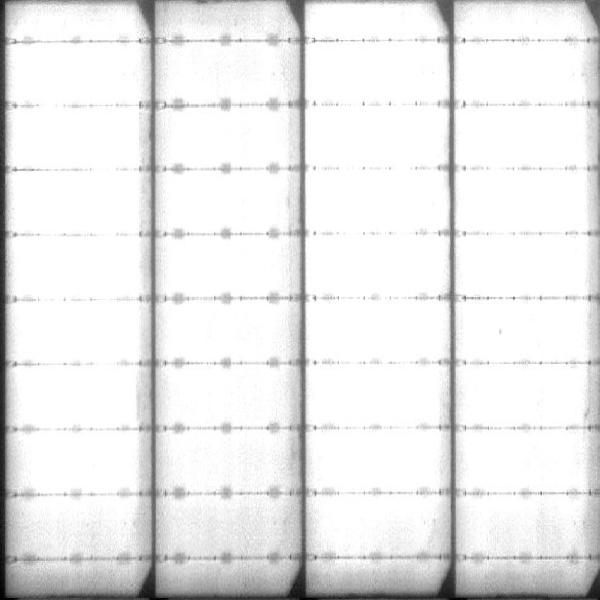hot_spot: (314, 303, 444, 358), (309, 45, 439, 98), (313, 239, 444, 291), (461, 174, 580, 231), (14, 240, 136, 295), (464, 434, 583, 489), (315, 436, 443, 487), (312, 177, 441, 227), (19, 435, 138, 489), (11, 178, 139, 228), (315, 368, 448, 416), (18, 306, 138, 359), (463, 241, 585, 293), (313, 111, 437, 162), (14, 112, 137, 163), (465, 305, 581, 359), (463, 115, 584, 165), (461, 369, 582, 418), (25, 369, 135, 422), (15, 52, 127, 103), (463, 47, 574, 97), (173, 370, 286, 418), (173, 176, 287, 222), (171, 309, 287, 354), (480, 496, 578, 548), (180, 112, 283, 161), (167, 244, 284, 287), (174, 437, 285, 480), (317, 13, 418, 33)
